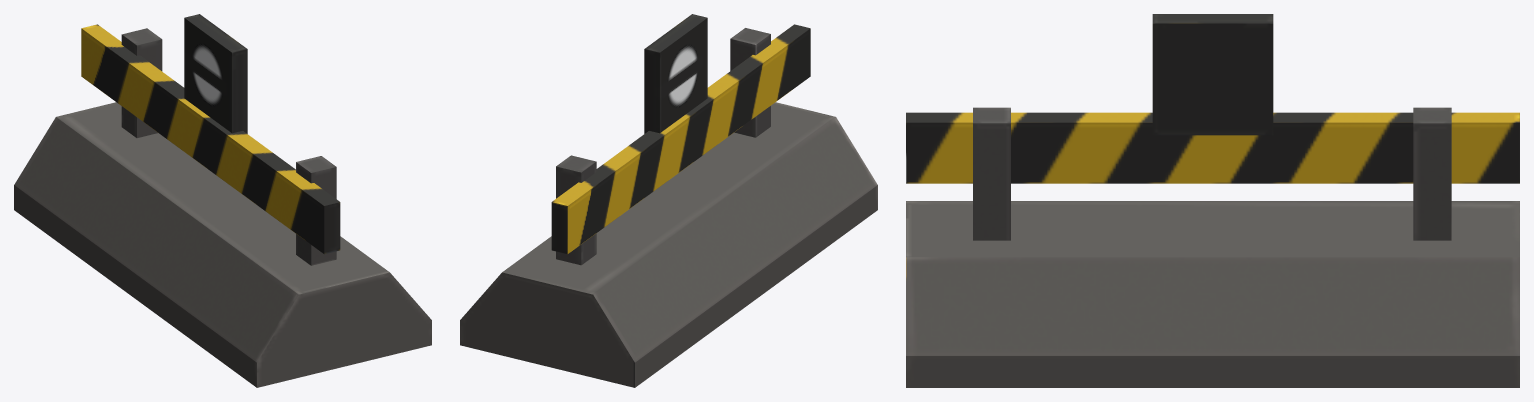
The model's file is cran stop.fbx.
3 renders of one model, left to right at view 1: azimuth 30°, elevation 25°; view 2: azimuth 150°, elevation 25°; view 3: azimuth 270°, elevation 25°, orthographic. The views are drawn at different scales.
Parts seen in each view (by area): view 1: cran stop, cran stop2; view 2: cran stop, cran stop2; view 3: cran stop, cran stop2.
Boxes of the visible parts, bbox=[...] form: cran stop: bbox=[14, 24, 431, 387]; cran stop2: bbox=[184, 14, 247, 133]; cran stop: bbox=[460, 24, 877, 387]; cran stop2: bbox=[644, 14, 707, 133]; cran stop: bbox=[906, 107, 1519, 387]; cran stop2: bbox=[1152, 14, 1273, 135].
Size of the model in its own units: 32.61 by 43.88 by 78.48.
